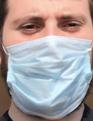with_mask: (2, 1, 93, 121)
